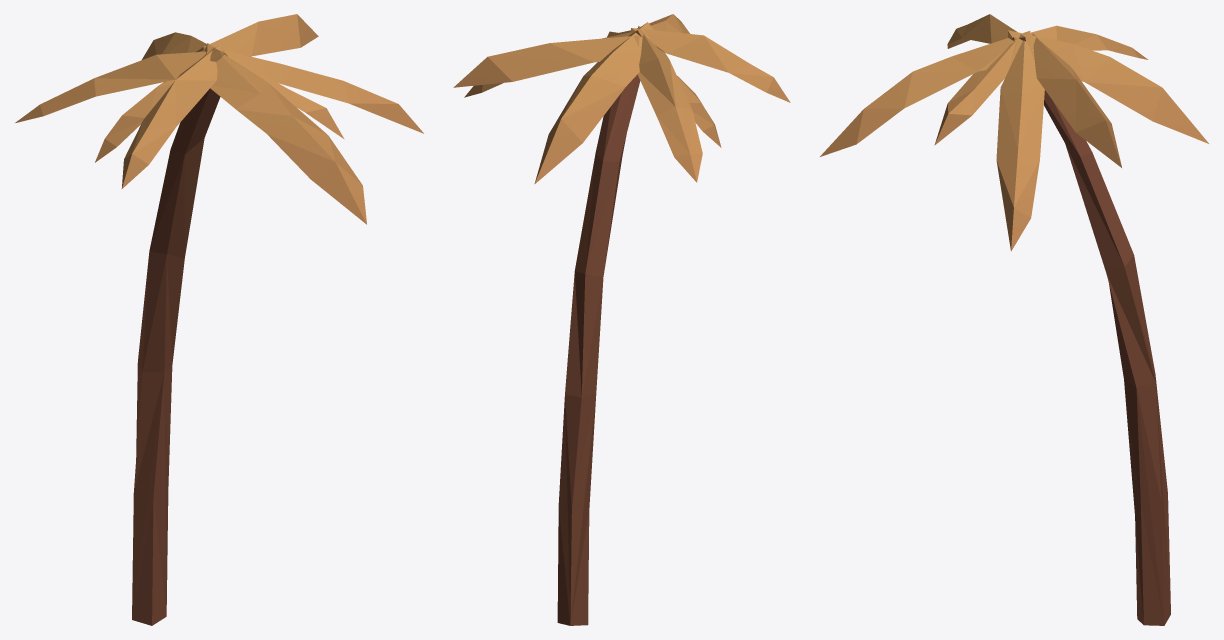
The model's file is Tree_09_gradient_yellow_vc.fbx.
3 renders of one model, left to right at view 1: azimuth 30°, elevation 25°; view 2: azimuth 150°, elevation 25°; view 3: azimuth 270°, elevation 25°, orthographic. The views are drawn at different scales.
Visible parts, largest first — view 1: Tree_09_gradient_yellow_vc; view 2: Tree_09_gradient_yellow_vc; view 3: Tree_09_gradient_yellow_vc.
Part boxes in pixels (bbox=[...]): Tree_09_gradient_yellow_vc: bbox=[15, 14, 423, 625]; Tree_09_gradient_yellow_vc: bbox=[453, 14, 790, 625]; Tree_09_gradient_yellow_vc: bbox=[820, 14, 1208, 625].
Bounding box in the file's own units: 128 × 228 × 137.
